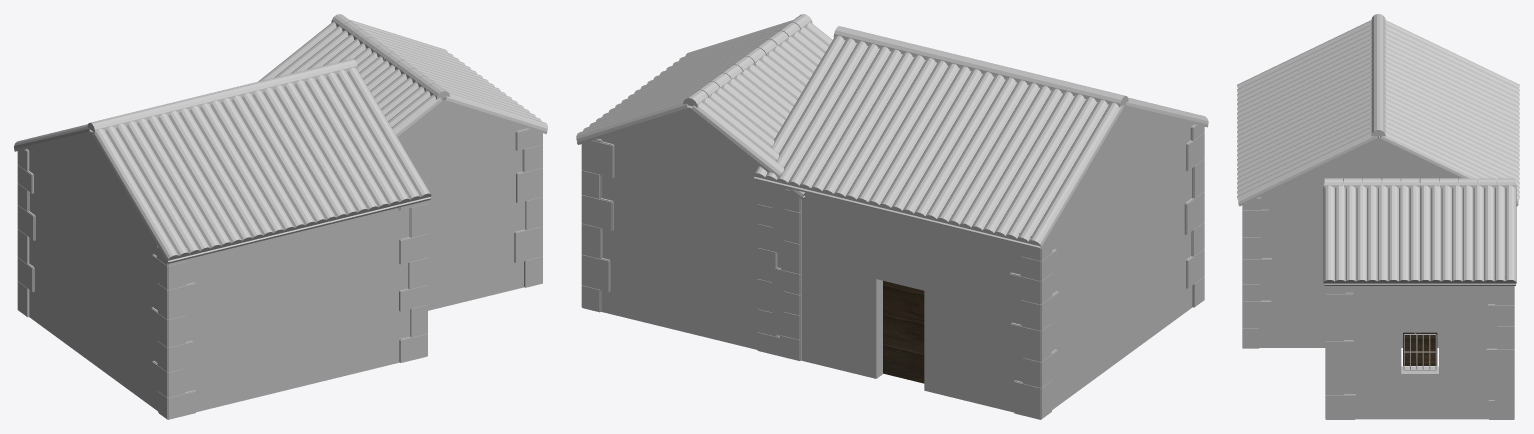
File: casa_corner.gltf
3 renders of one model, left to right at view 1: azimuth 30°, elevation 25°; view 2: azimuth 150°, elevation 25°; view 3: azimuth 270°, elevation 25°, orthographic. The views are drawn at different scales.
Parts seen in each view (by area): view 1: casa_corner_main_shell, casa_corner_main_roof_tile_b_0, casa_corner_main_roof_tile_b_22, casa_corner_main_roof_tile_b_24, casa_corner_main_roof_tile_b_4, casa_corner_main_roof_tile_b_6, casa_corner_main_roof_tile_b_7, casa_corner_main_roof_tile_b_12, casa_corner_main_roof_tile_b_14, casa_corner_main_roof_tile_b_18, casa_corner_main_roof_tile_b_20, casa_corner_main_roof_tile_b_9 (+38 smaller); view 2: casa_corner_main_shell, casa_corner_main_front_door0, casa_corner_main_roof_tile_a_24, casa_corner_main_roof_tile_a_14, casa_corner_main_roof_tile_a_16, casa_corner_main_roof_tile_a_18, casa_corner_main_roof_tile_a_21, casa_corner_main_roof_tile_a_7, casa_corner_main_roof_tile_a_17, casa_corner_main_roof_tile_a_3, casa_corner_main_roof_tile_a_4, casa_corner_main_roof_tile_a_5 (+41 smaller); view 3: casa_corner_main_shell, casa_corner_main_roof_tile_b_24, casa_corner_wing_roof_tile_a_17, casa_corner_wing_roof_tile_a_0, casa_corner_wing_roof_tile_a_5, casa_corner_wing_roof_tile_a_10, casa_corner_wing_roof_tile_a_16, casa_corner_wing_roof_tile_a_2, casa_corner_wing_roof_tile_a_13, casa_corner_wing_front_win0_shutter, casa_corner_wing_roof_tile_a_1, casa_corner_wing_roof_tile_a_9 (+76 smaller).
Boxes of the visible parts, left/top/right/bottom form: casa_corner_main_shell: left=14, top=98, right=547, bottom=411; casa_corner_main_roof_tile_b_0: left=92, top=129, right=179, bottom=260; casa_corner_main_roof_tile_b_22: left=326, top=72, right=410, bottom=204; casa_corner_main_roof_tile_b_24: left=347, top=67, right=431, bottom=199; casa_corner_main_roof_tile_b_4: left=137, top=118, right=221, bottom=250; casa_corner_main_roof_tile_b_6: left=158, top=113, right=242, bottom=245; casa_corner_main_roof_tile_b_7: left=168, top=111, right=252, bottom=242; casa_corner_main_roof_tile_b_12: left=221, top=98, right=305, bottom=229; casa_corner_main_roof_tile_b_14: left=242, top=93, right=326, bottom=224; casa_corner_main_roof_tile_b_18: left=284, top=82, right=368, bottom=214; casa_corner_main_roof_tile_b_20: left=305, top=77, right=389, bottom=209; casa_corner_main_roof_tile_b_9: left=189, top=106, right=273, bottom=237; casa_corner_main_shell: left=577, top=105, right=1208, bottom=412; casa_corner_main_front_door0: left=883, top=281, right=924, bottom=383; casa_corner_main_roof_tile_a_24: left=1028, top=102, right=1123, bottom=246; casa_corner_main_roof_tile_a_14: left=914, top=74, right=1005, bottom=218; casa_corner_main_roof_tile_a_16: left=937, top=80, right=1028, bottom=224; casa_corner_main_roof_tile_a_18: left=960, top=86, right=1051, bottom=229; casa_corner_main_roof_tile_a_21: left=994, top=94, right=1085, bottom=237; casa_corner_main_roof_tile_a_7: left=833, top=55, right=925, bottom=198; casa_corner_main_roof_tile_a_17: left=948, top=83, right=1040, bottom=226; casa_corner_main_roof_tile_a_3: left=788, top=44, right=879, bottom=187; casa_corner_main_roof_tile_a_4: left=799, top=46, right=891, bottom=190; casa_corner_main_roof_tile_a_5: left=811, top=49, right=902, bottom=193; casa_corner_main_shell: left=1238, top=136, right=1518, bottom=419; casa_corner_main_roof_tile_b_24: left=1237, top=131, right=1376, bottom=203; casa_corner_wing_roof_tile_a_17: left=1505, top=185, right=1516, bottom=283; casa_corner_wing_roof_tile_a_0: left=1323, top=185, right=1335, bottom=283; casa_corner_wing_roof_tile_a_5: left=1377, top=184, right=1388, bottom=283; casa_corner_wing_roof_tile_a_10: left=1430, top=184, right=1442, bottom=283; casa_corner_wing_roof_tile_a_16: left=1494, top=184, right=1505, bottom=283; casa_corner_wing_roof_tile_a_2: left=1345, top=185, right=1356, bottom=283; casa_corner_wing_roof_tile_a_13: left=1462, top=185, right=1473, bottom=283; casa_corner_wing_front_win0_shutter: left=1403, top=332, right=1437, bottom=365; casa_corner_wing_roof_tile_a_1: left=1334, top=184, right=1346, bottom=283; casa_corner_wing_roof_tile_a_9: left=1420, top=185, right=1431, bottom=283.
Bounding box in the file's own units: 10.77 × 5.82 × 6.8.
